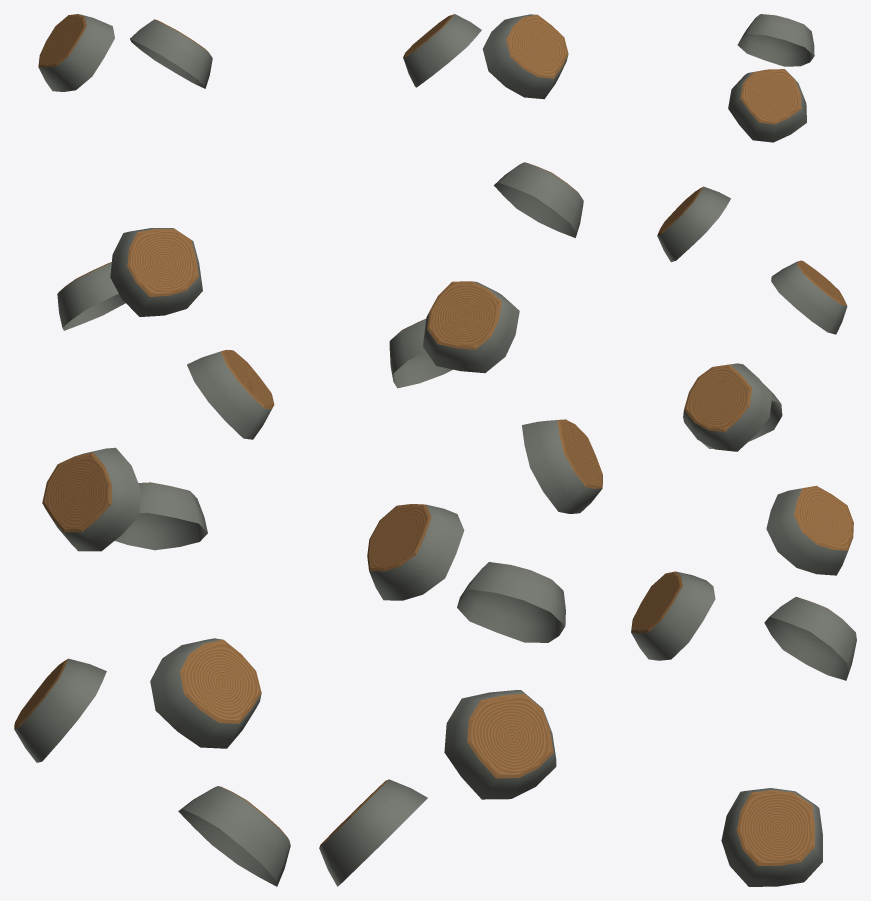
File: Beech_Mature_01_HighPruned_Recent_LOD2.fbx
3 views of the same model, side by side, from view 1: azimuth 30°, elevation 25°; view 2: azimuth 150°, elevation 25°; view 3: azimuth 270°, elevation 25° (orthographic). The views are drawn at different scales.
Visible parts, largest first — view 1: Beech_Mature_01_HighPruned_Recent_LOD2_Scars; view 2: Beech_Mature_01_HighPruned_Recent_LOD2_Scars; view 3: Beech_Mature_01_HighPruned_Recent_LOD2_Scars.
Part boxes in pixels (bbox=[...]): Beech_Mature_01_HighPruned_Recent_LOD2_Scars: bbox=[14, 14, 290, 886]; Beech_Mature_01_HighPruned_Recent_LOD2_Scars: bbox=[319, 14, 602, 886]; Beech_Mature_01_HighPruned_Recent_LOD2_Scars: bbox=[631, 14, 856, 886].
Size of what is drawn, in the model's own units: 151 by 524 by 135.
2 materials, 2 textured.
